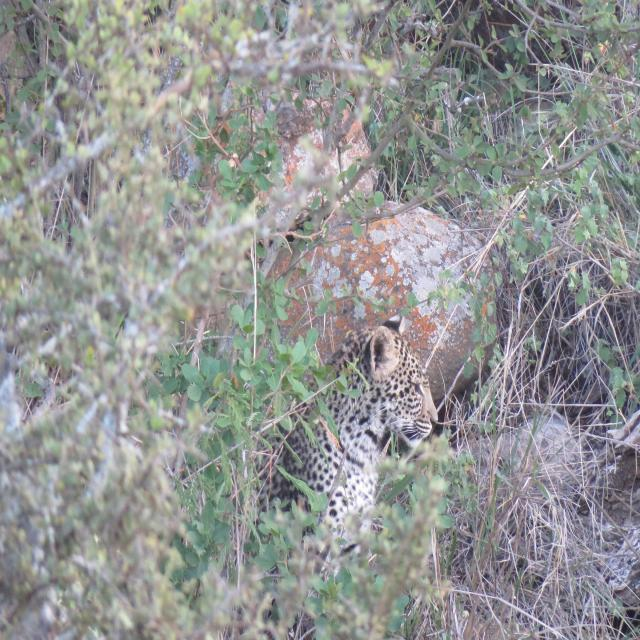Leopard: (192, 318, 450, 583)
